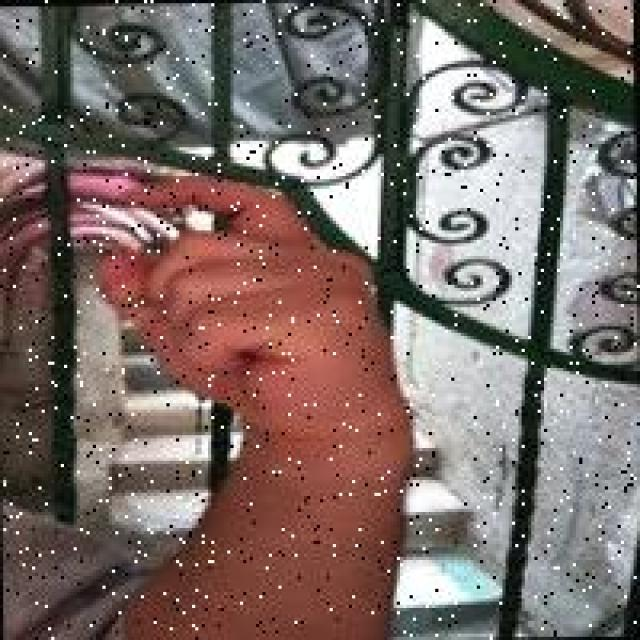X: (91, 157, 392, 451)
